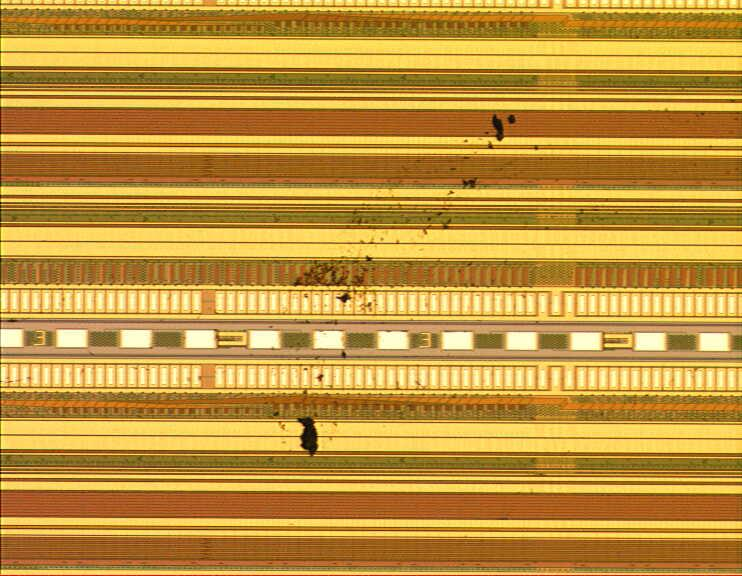PO CONTAMINATION: (258, 106, 534, 469)
